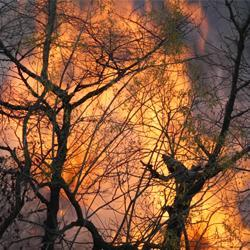fire: (110, 88, 175, 149), (197, 195, 248, 248), (83, 16, 139, 61)
